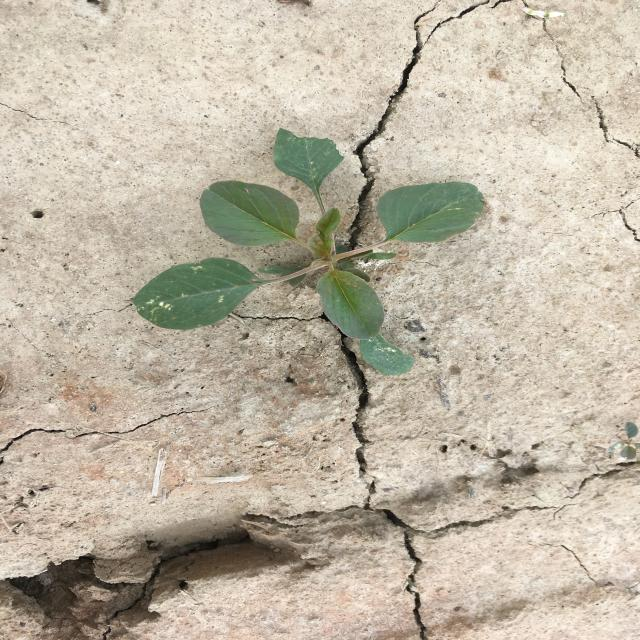PalmerAmaranth: (133, 128, 485, 375)
